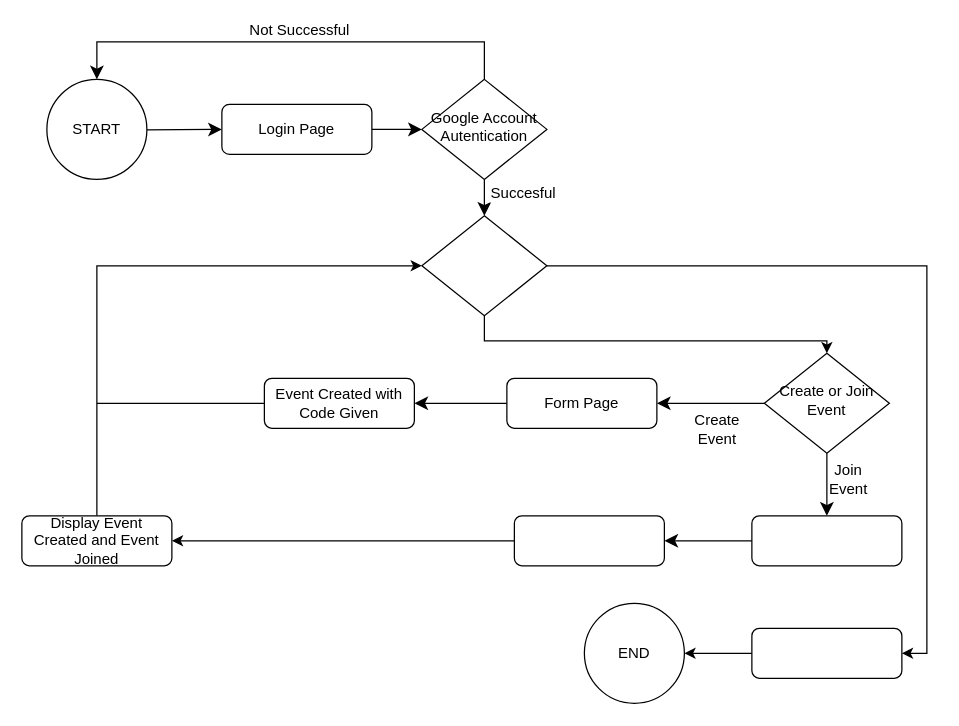
The diagram is 959 pixels wide and 726 high, and some of its shapes have lost their labels. Each missing label, with the centre of its shape:
Enter Code Page: (826,540)
Homepage: (484,265)
Joined Event: (588,540)
Logout: (826,652)
